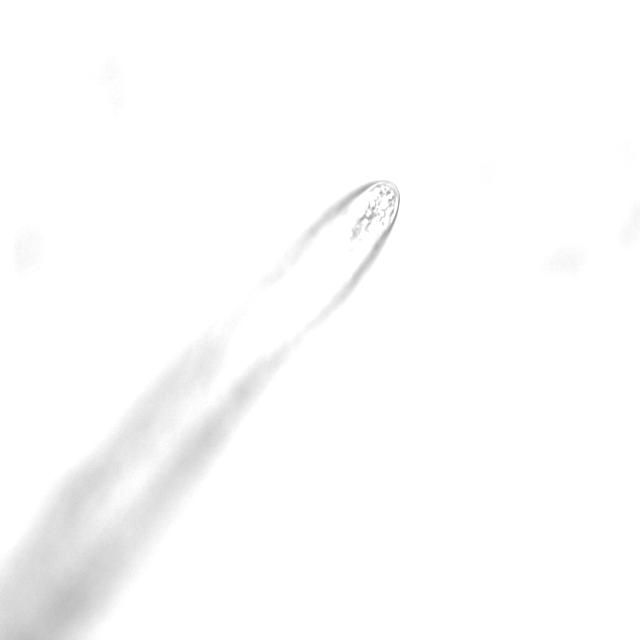Pratylenchus: (276, 166, 426, 290)
